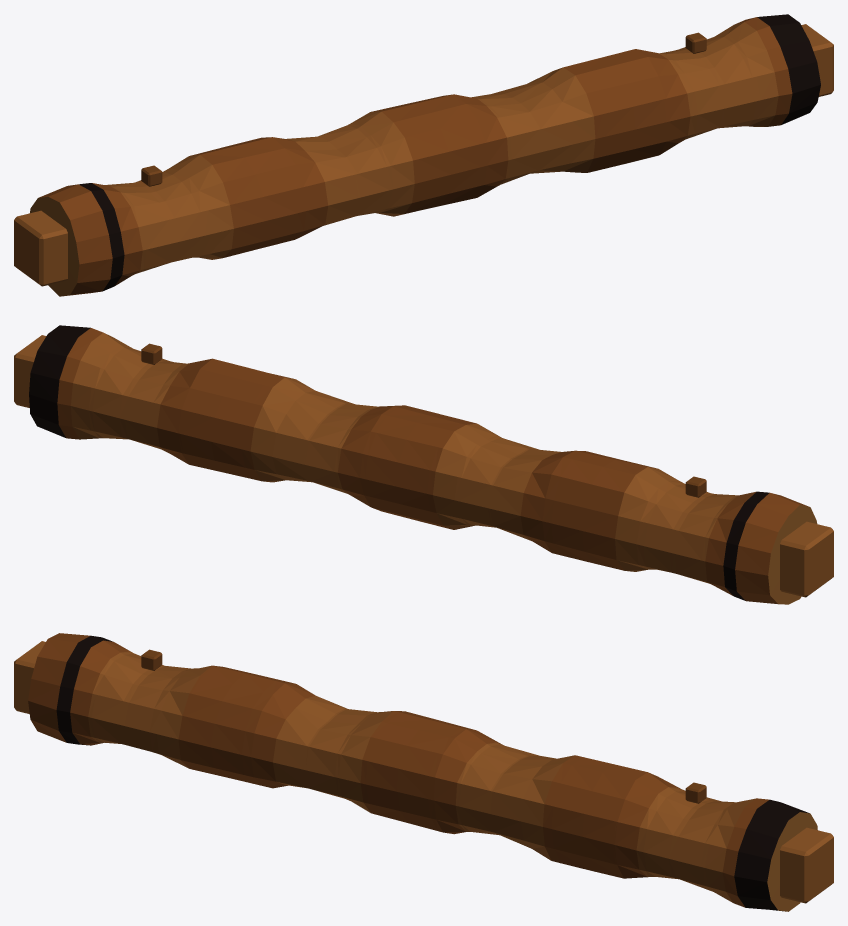
Rendered from mod_roof_purlin_2m.glb.
3 views of the same model, one above another, from view 1: azimuth 30°, elevation 25°; view 2: azimuth 150°, elevation 25°; view 3: azimuth 330°, elevation 25° (orthographic).
Parts seen in each view (by area): view 1: Mod_Roof_Purlin_2m; view 2: Mod_Roof_Purlin_2m; view 3: Mod_Roof_Purlin_2m.
Part boxes in pixels (box(x1,y1,x2,y2)): Mod_Roof_Purlin_2m: box(14, 14, 833, 296); Mod_Roof_Purlin_2m: box(14, 325, 833, 604); Mod_Roof_Purlin_2m: box(14, 633, 833, 911).
Size of the model in its own units: 2.19 by 0.2708 by 0.2739.
